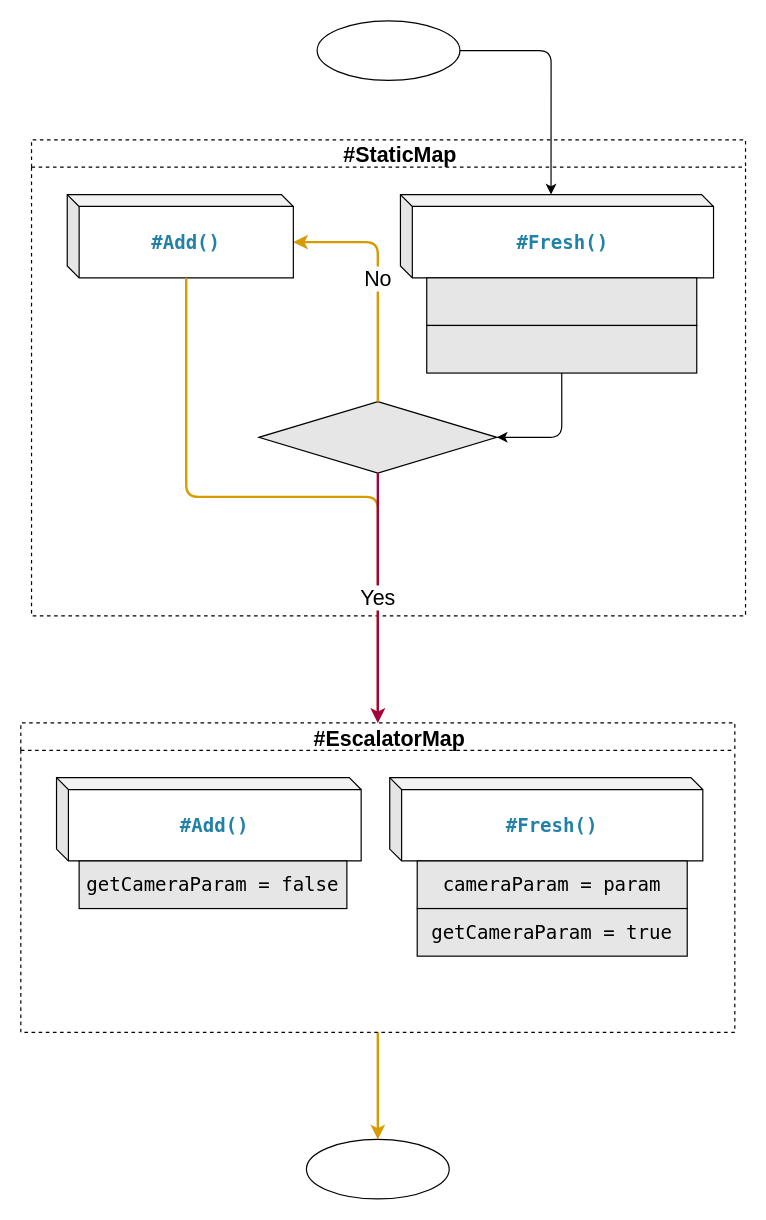
The diagram is 766 pixels wide and 1220 high, and some of its shapes have lost their labels. The box of each missing label's shape, as (x1, y1, x2, y2) in pixels:
end: (305, 1138, 449, 1199)
start: (316, 20, 460, 80)
track: (426, 277, 697, 325)
update: (258, 400, 497, 473)
UpdateLocation: (426, 324, 697, 373)
